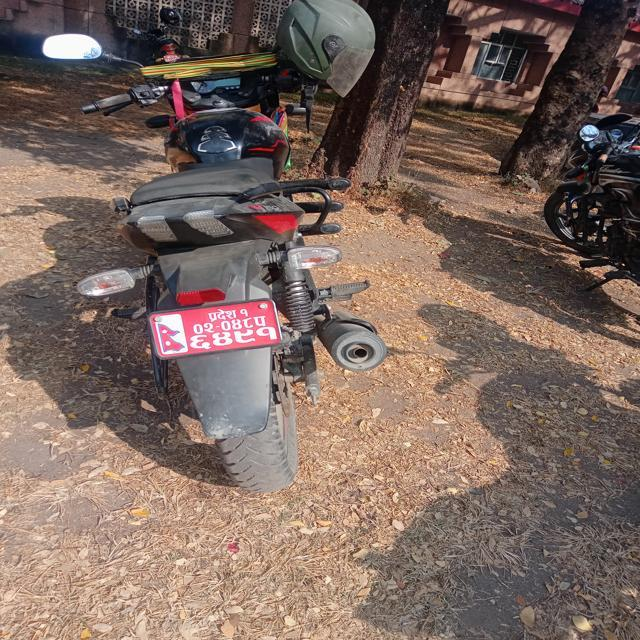license_plate: (136, 292, 288, 356)
